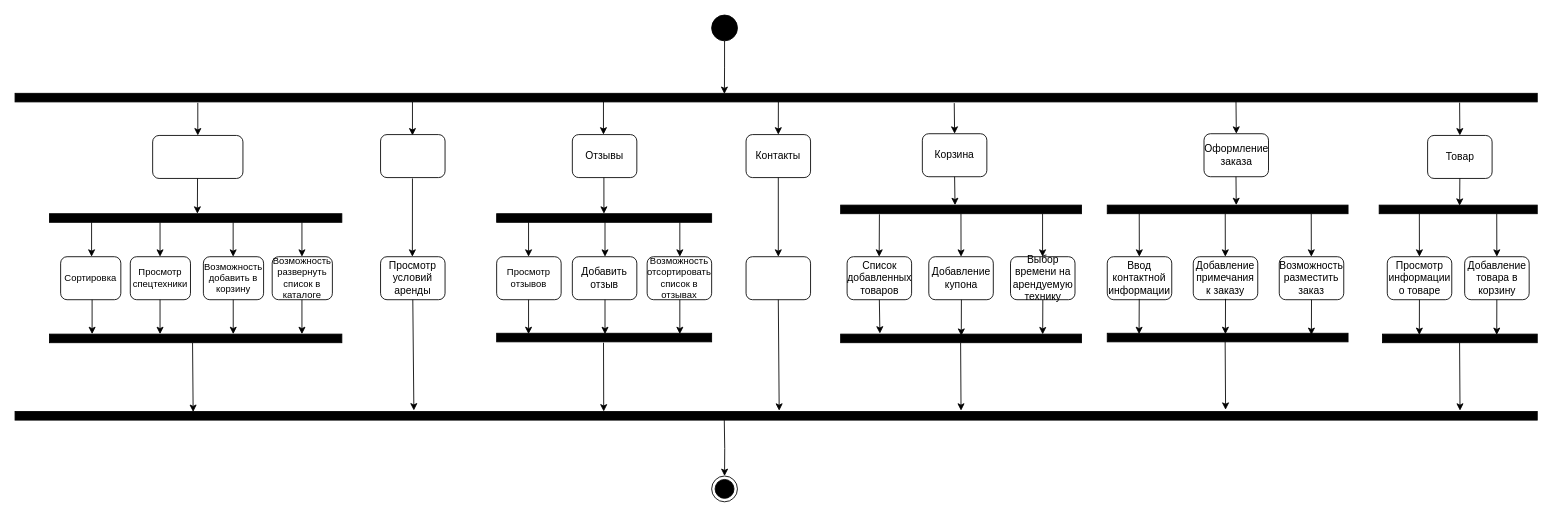
The diagram is 1552 pixels wide and 517 high, and some of its shapes have lost their labels. Each missing label, with the box of its shape:
Аренда: (380, 134, 445, 178)
Каталог: (152, 135, 243, 178)
Просмотр контактов: (745, 256, 811, 300)
